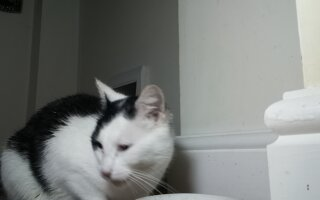bad: (3, 72, 178, 198)
